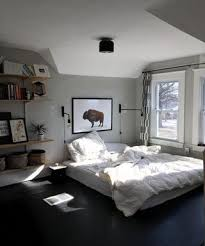bed-matress: (62, 148, 205, 203)
